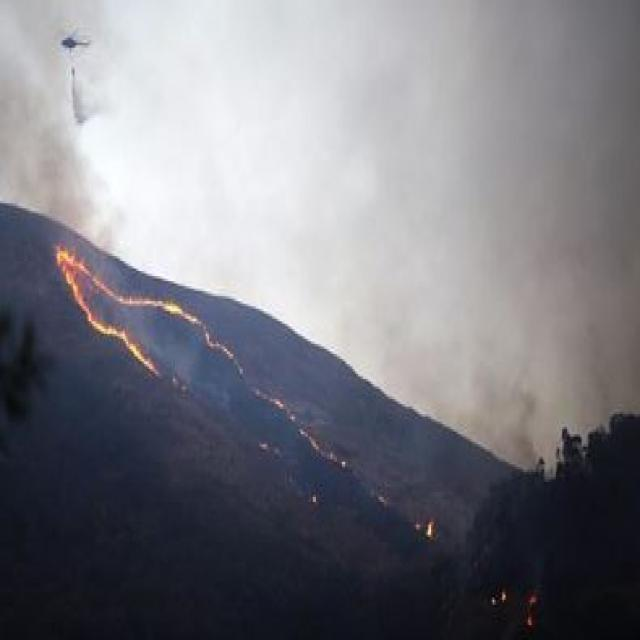Fire: (54, 244, 86, 291), (88, 313, 128, 343), (157, 298, 185, 320)
Smoke: (15, 46, 60, 172)
